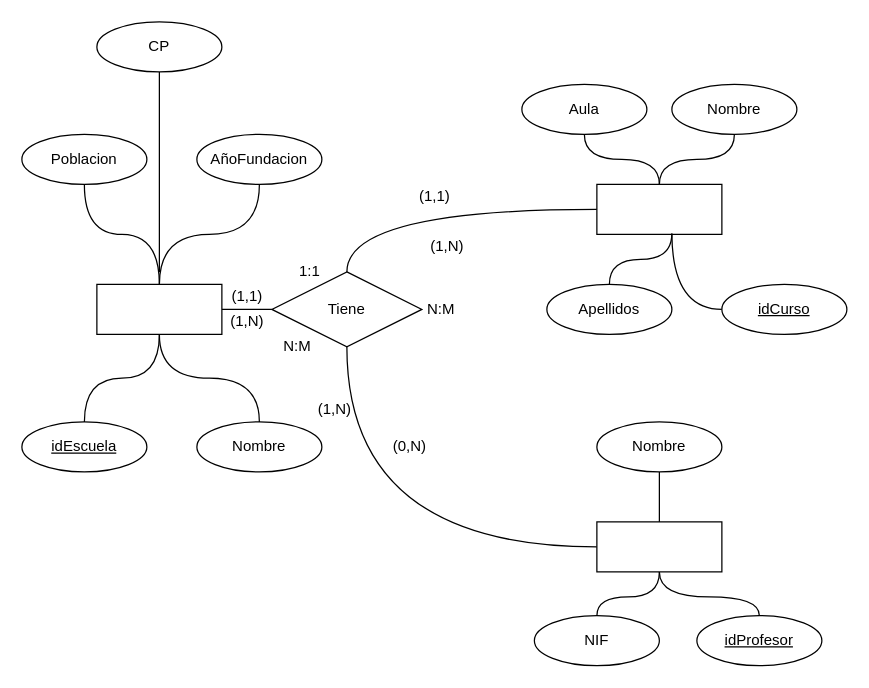
Image size: 869x688. Some labels were removed from this diagram. Each missing label, with the centre of its shape:
"Curso" belongs at (659,208).
"Escuela" belongs at (159,308).
"Profesor" belongs at (659,546).
